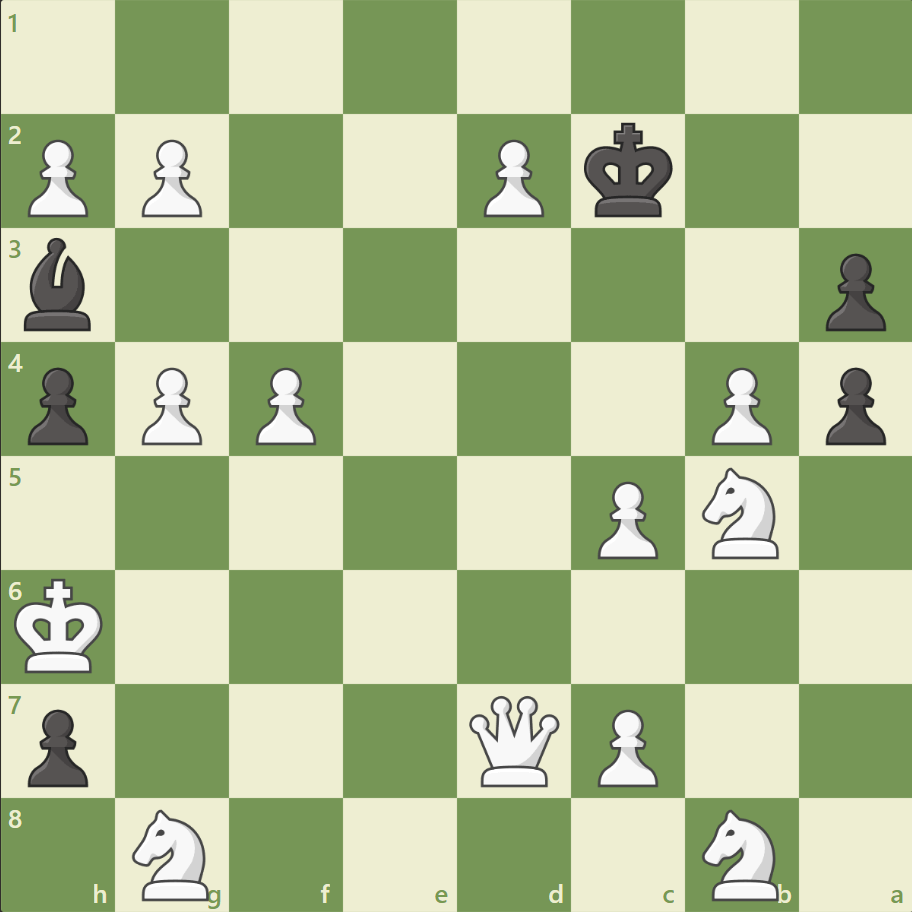K: (11, 571, 111, 679)
N: (124, 802, 222, 904), (692, 461, 789, 564), (692, 802, 789, 904)
P: (701, 359, 776, 450), (247, 359, 322, 450), (133, 359, 208, 450), (474, 132, 549, 223), (133, 132, 208, 223), (20, 132, 95, 223), (588, 700, 662, 791), (588, 473, 662, 564)
Q: (464, 690, 563, 789)
b: (17, 233, 101, 336)
k: (579, 117, 679, 225)
p: (20, 700, 95, 791), (20, 359, 95, 450), (815, 359, 889, 450), (815, 246, 889, 337)
